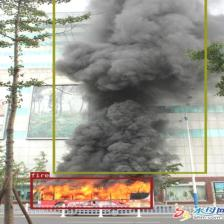fire: (30, 178, 152, 209)
smoke: (52, 0, 206, 173)
